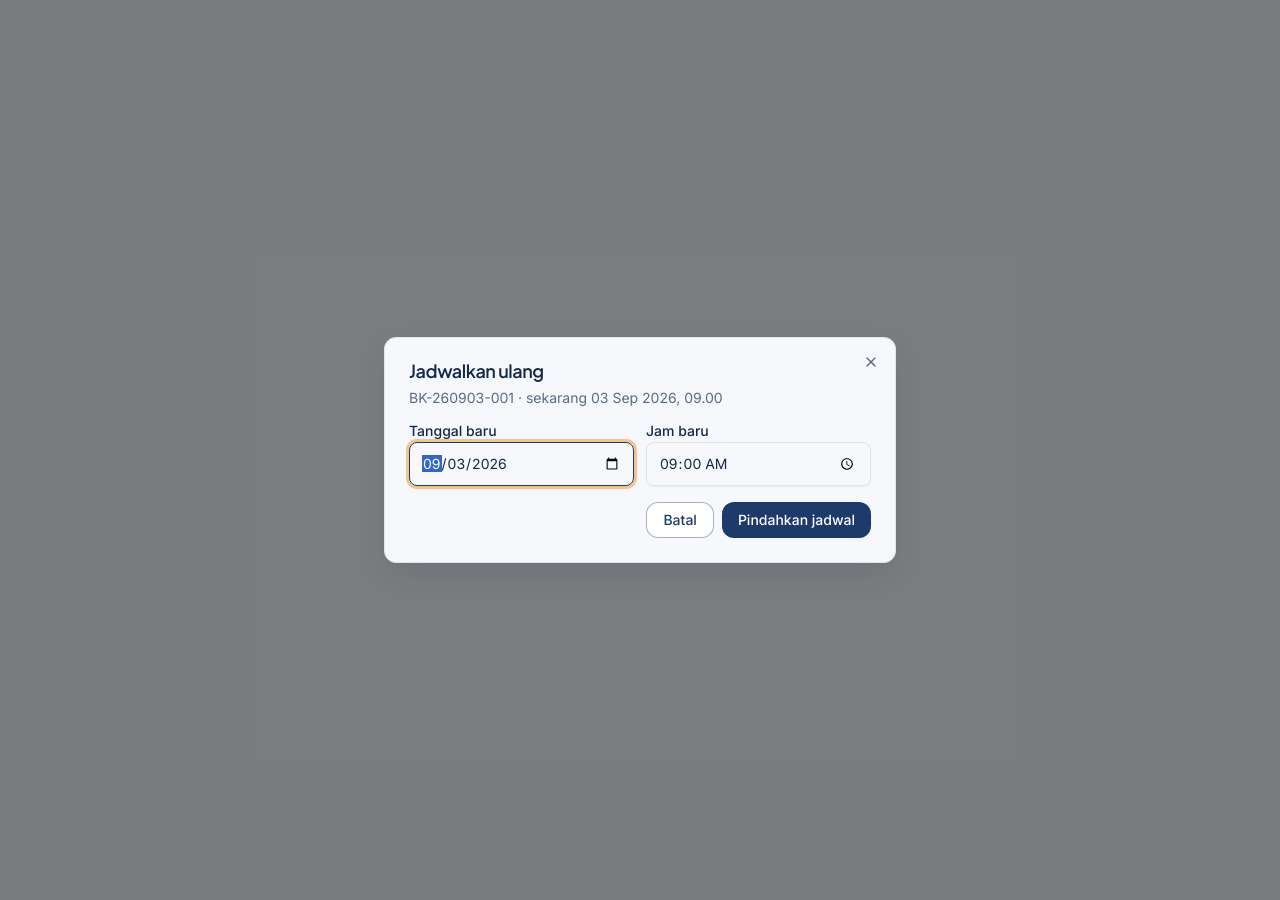
Test: BookingRescheduleDialog › shows a refusal that is not a clash as an error, with no override
Click the button "Pindahkan jadwal": (796, 520) [722,502,871,538]
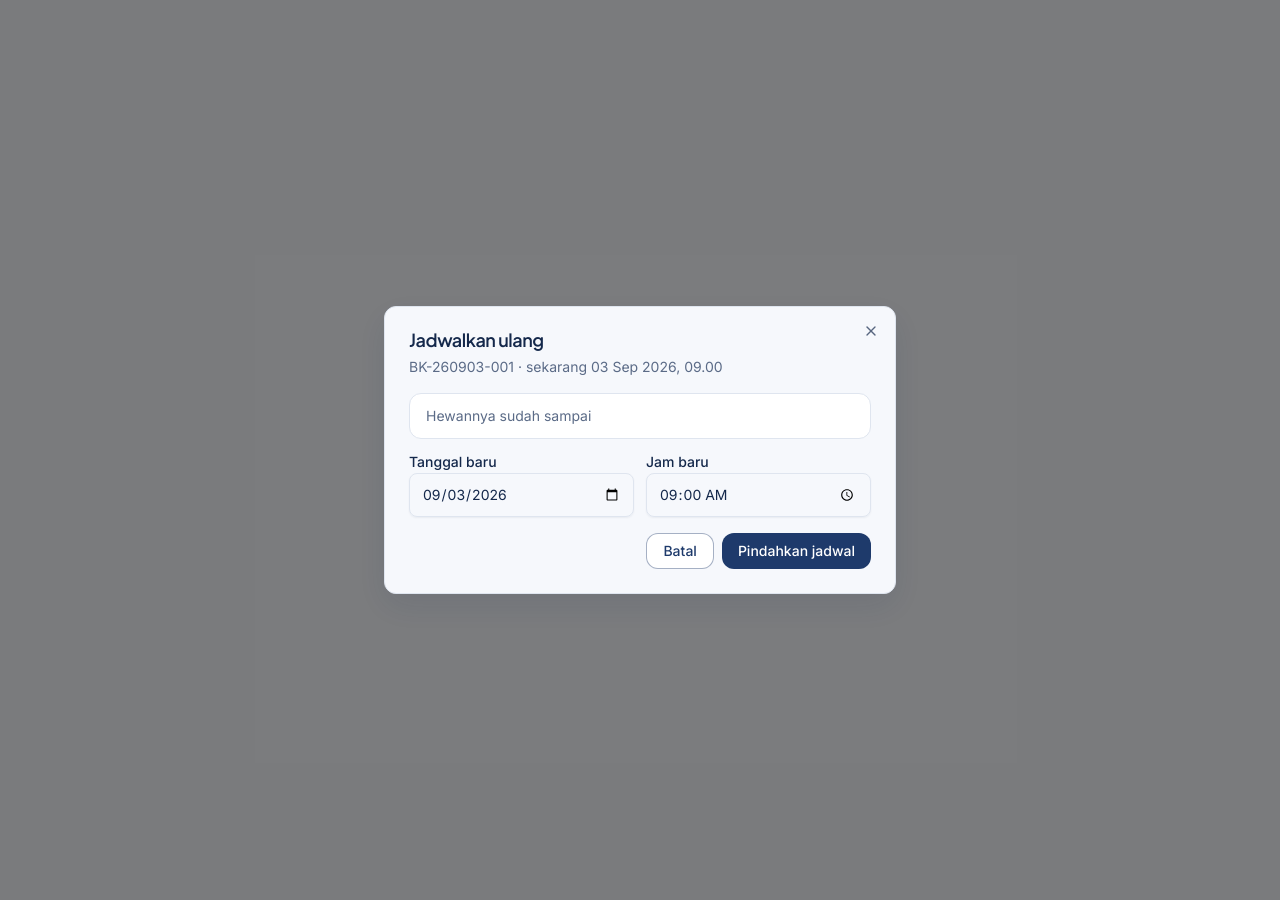
Check: the text "Hewannya sudah sampai" is shown, box [426,407,591,424]
